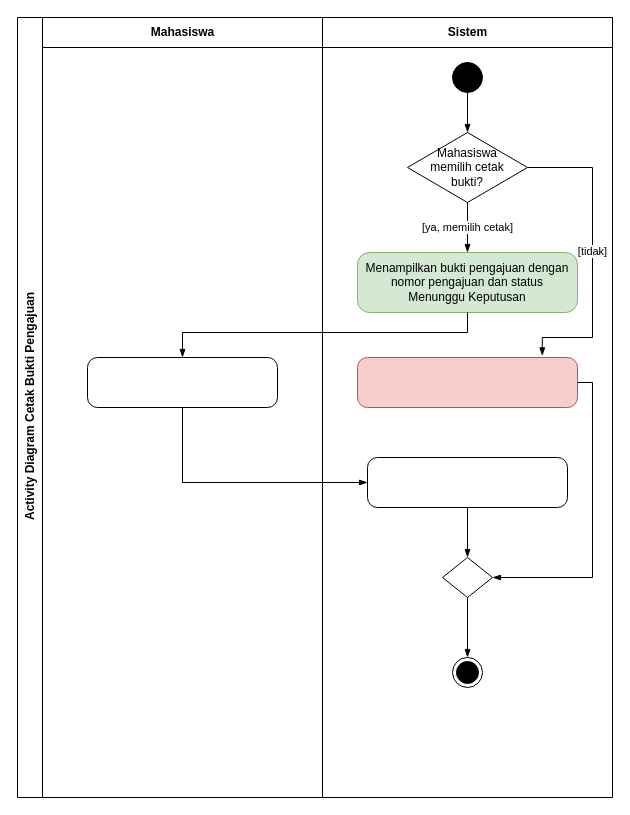
This 630x815 diagram has some shape labels left out. Each missing label, with the centre of its shape:
"Mencetak bukti pengajuan" belongs at [467,482].
"Mengonfirmasi pencetakan" belongs at [182,382].
"Menutup konfirmasi tanpa mencetak bukti dan pengajuan tetap tersimpan" belongs at [467,382].
